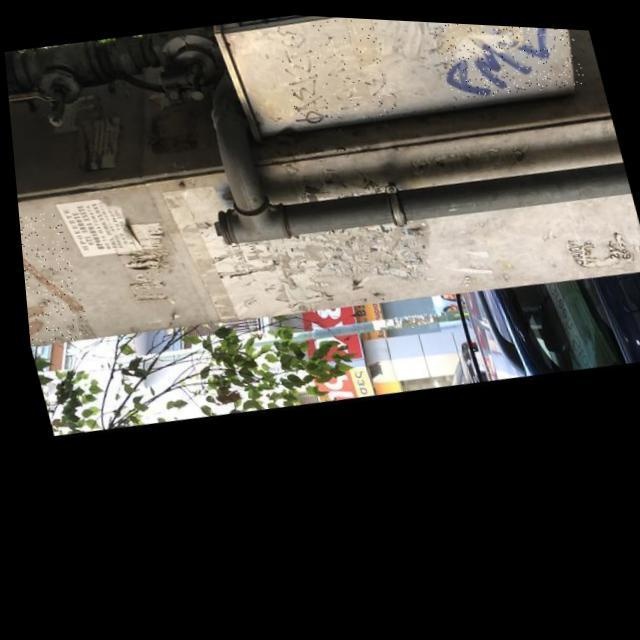-: (269, 11, 399, 127), (428, 18, 586, 102), (15, 209, 86, 348)
